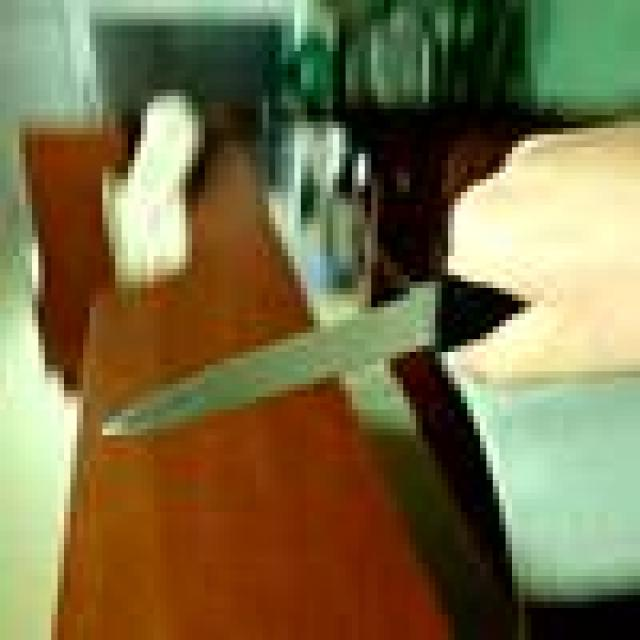knife: (106, 290, 441, 441)
